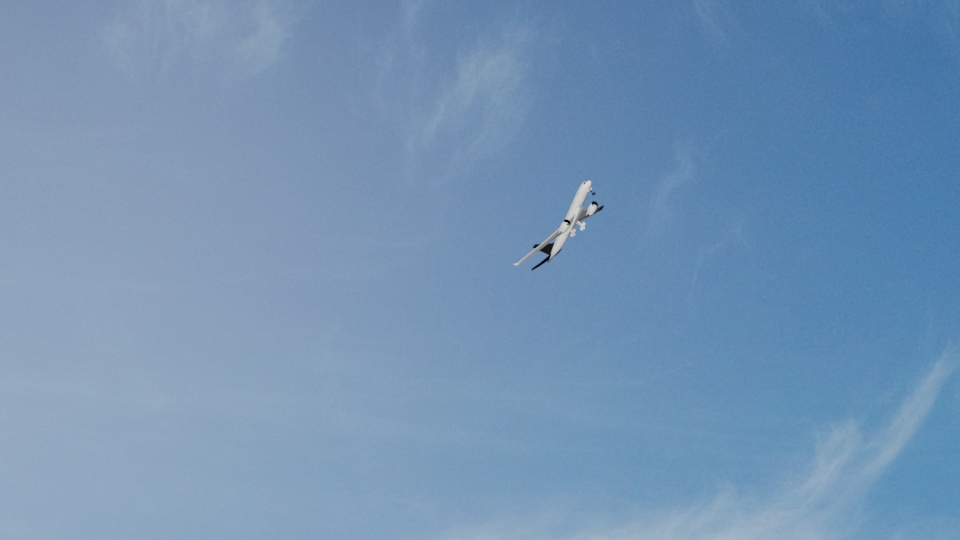plane: (513, 179, 606, 270)
